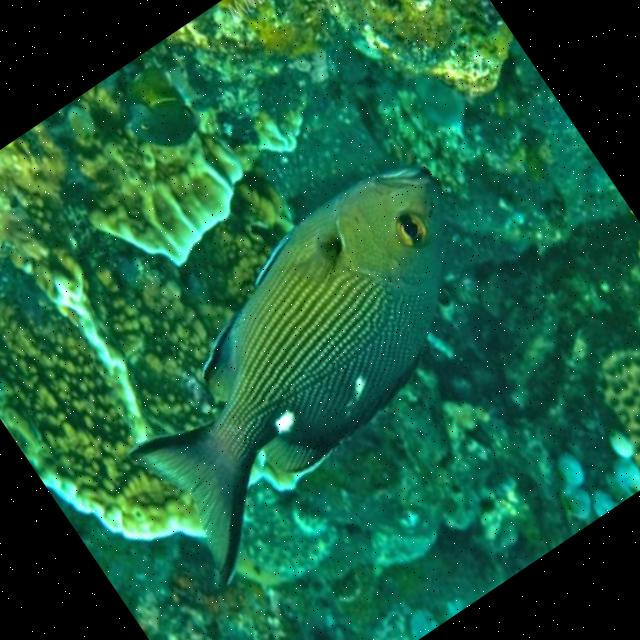ikan: (70, 142, 562, 594)
